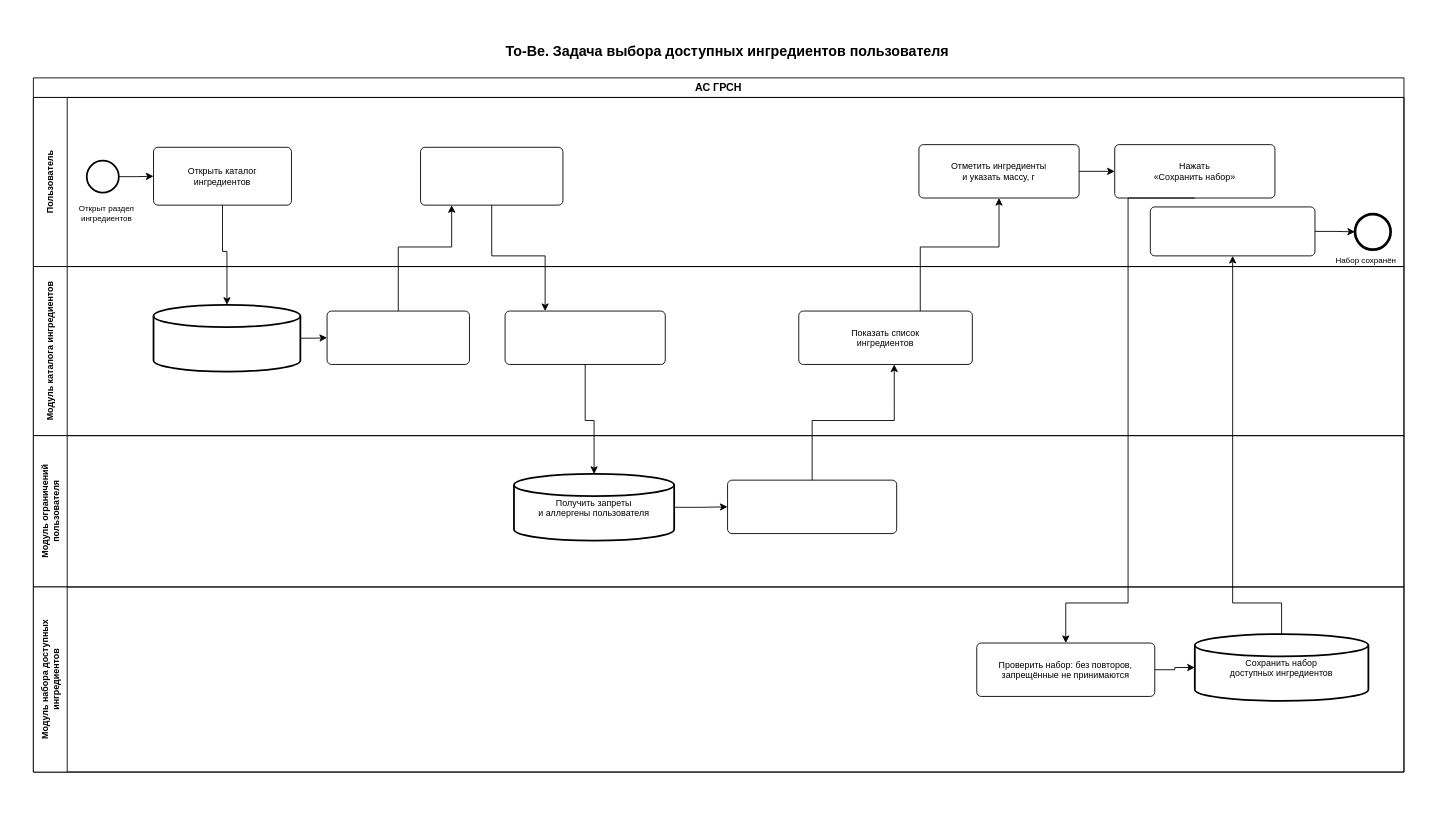
The diagram is 1454 pixels wide and 831 high, and some of its shapes have lost their labels. Here are the shapes that lost their labels. From the top down, the centre of each, then its label:
At (491,175): "Выбрать поиск, категорию или «только доступные»".
At (1232,231): "Просмотреть сохранённый набор ингредиентов".
At (226,337): "Получить каталог ингредиентов".
At (397,337): "Показать каталог: запрещённые позиции недоступны для выбора".
At (584,337): "Применить поиск и фильтр категории".
At (812,506): "Отметить запрещённые позиции".
